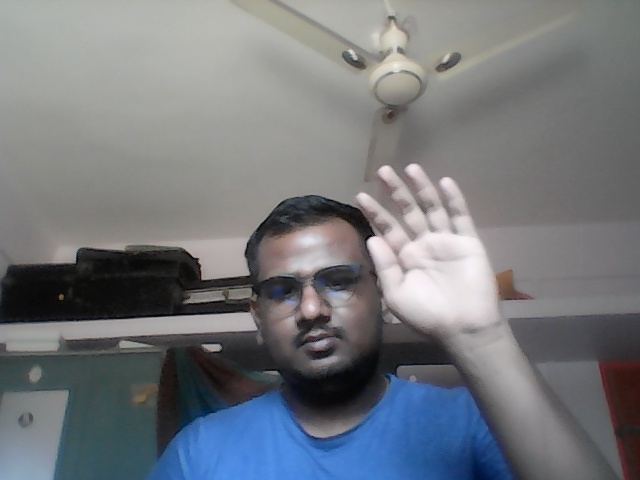Hello: (354, 161, 507, 340)
